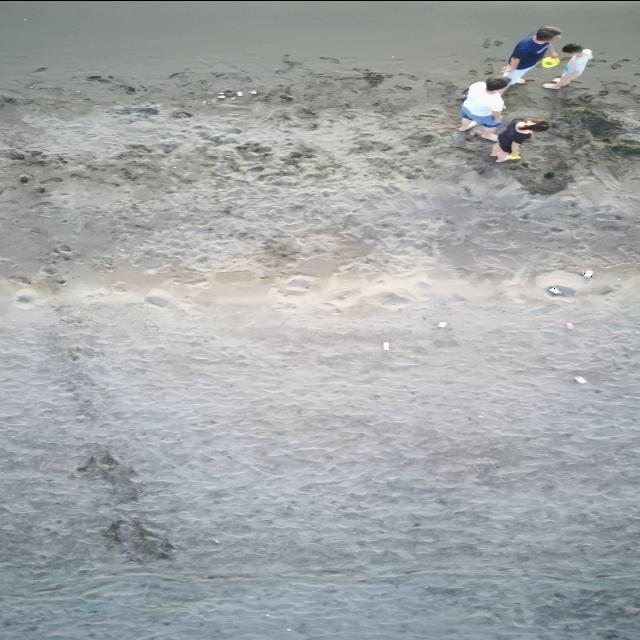Garbage: (547, 284, 572, 295), (144, 295, 168, 306), (540, 56, 559, 68), (16, 293, 32, 303), (19, 173, 31, 183), (547, 286, 560, 295), (573, 375, 586, 383), (221, 88, 232, 96), (436, 320, 447, 327), (507, 154, 520, 159), (583, 270, 592, 276), (216, 92, 223, 99), (564, 323, 573, 327), (249, 89, 256, 94), (383, 342, 387, 350), (236, 91, 241, 96), (203, 100, 207, 103)
